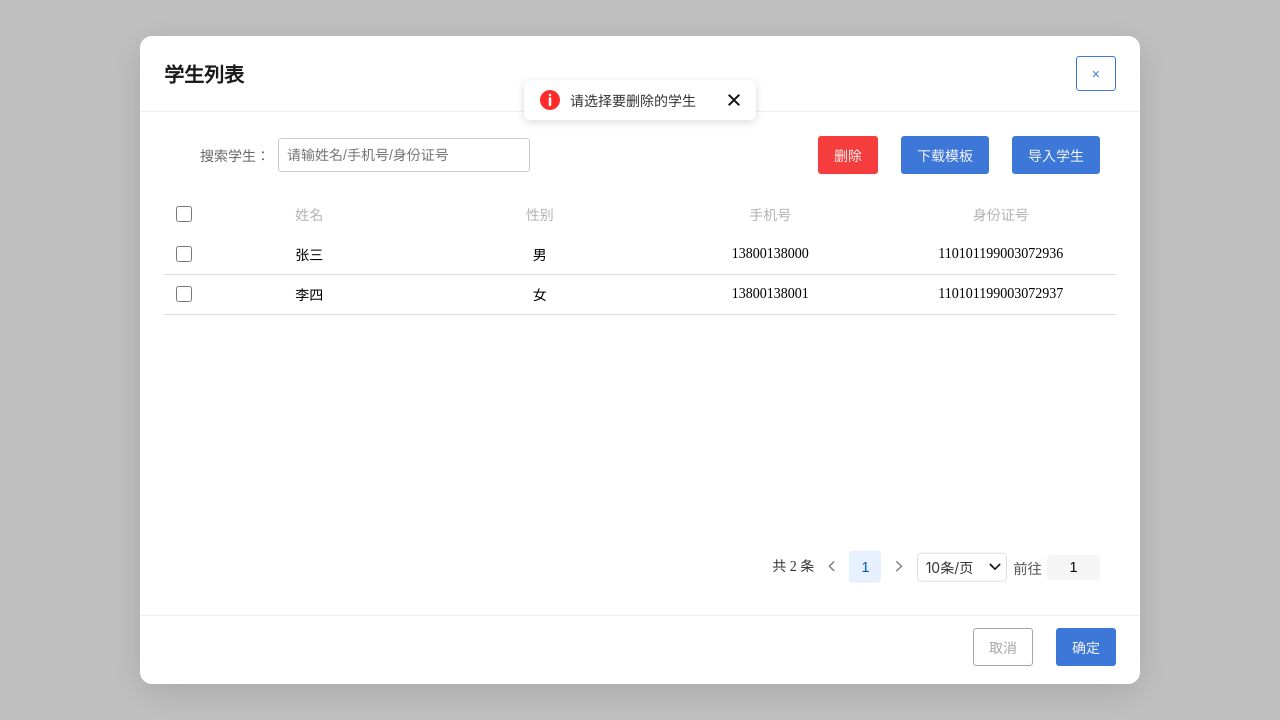
Test case: StudentSelectionPanel 组件 › 搜索和分页功能 › 搜索不存在的学生
expect the text "张三" is shown: met, box [194,234,424,274]
Type "王五" into the field with placeholder "请输姓名/手机号/身份证号". click: (404, 155)
box: [278,138,530,172]
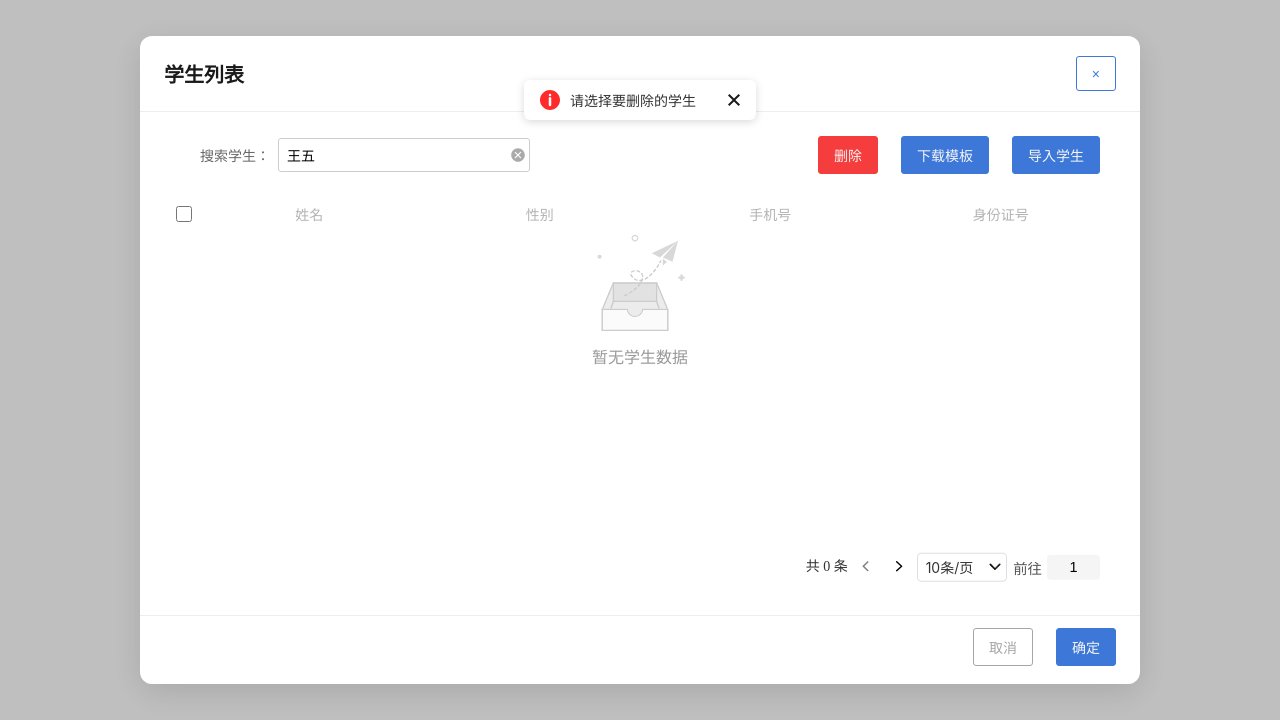
expect the text "暂无学生数据" is shown: met, box [592,344,688,368]
